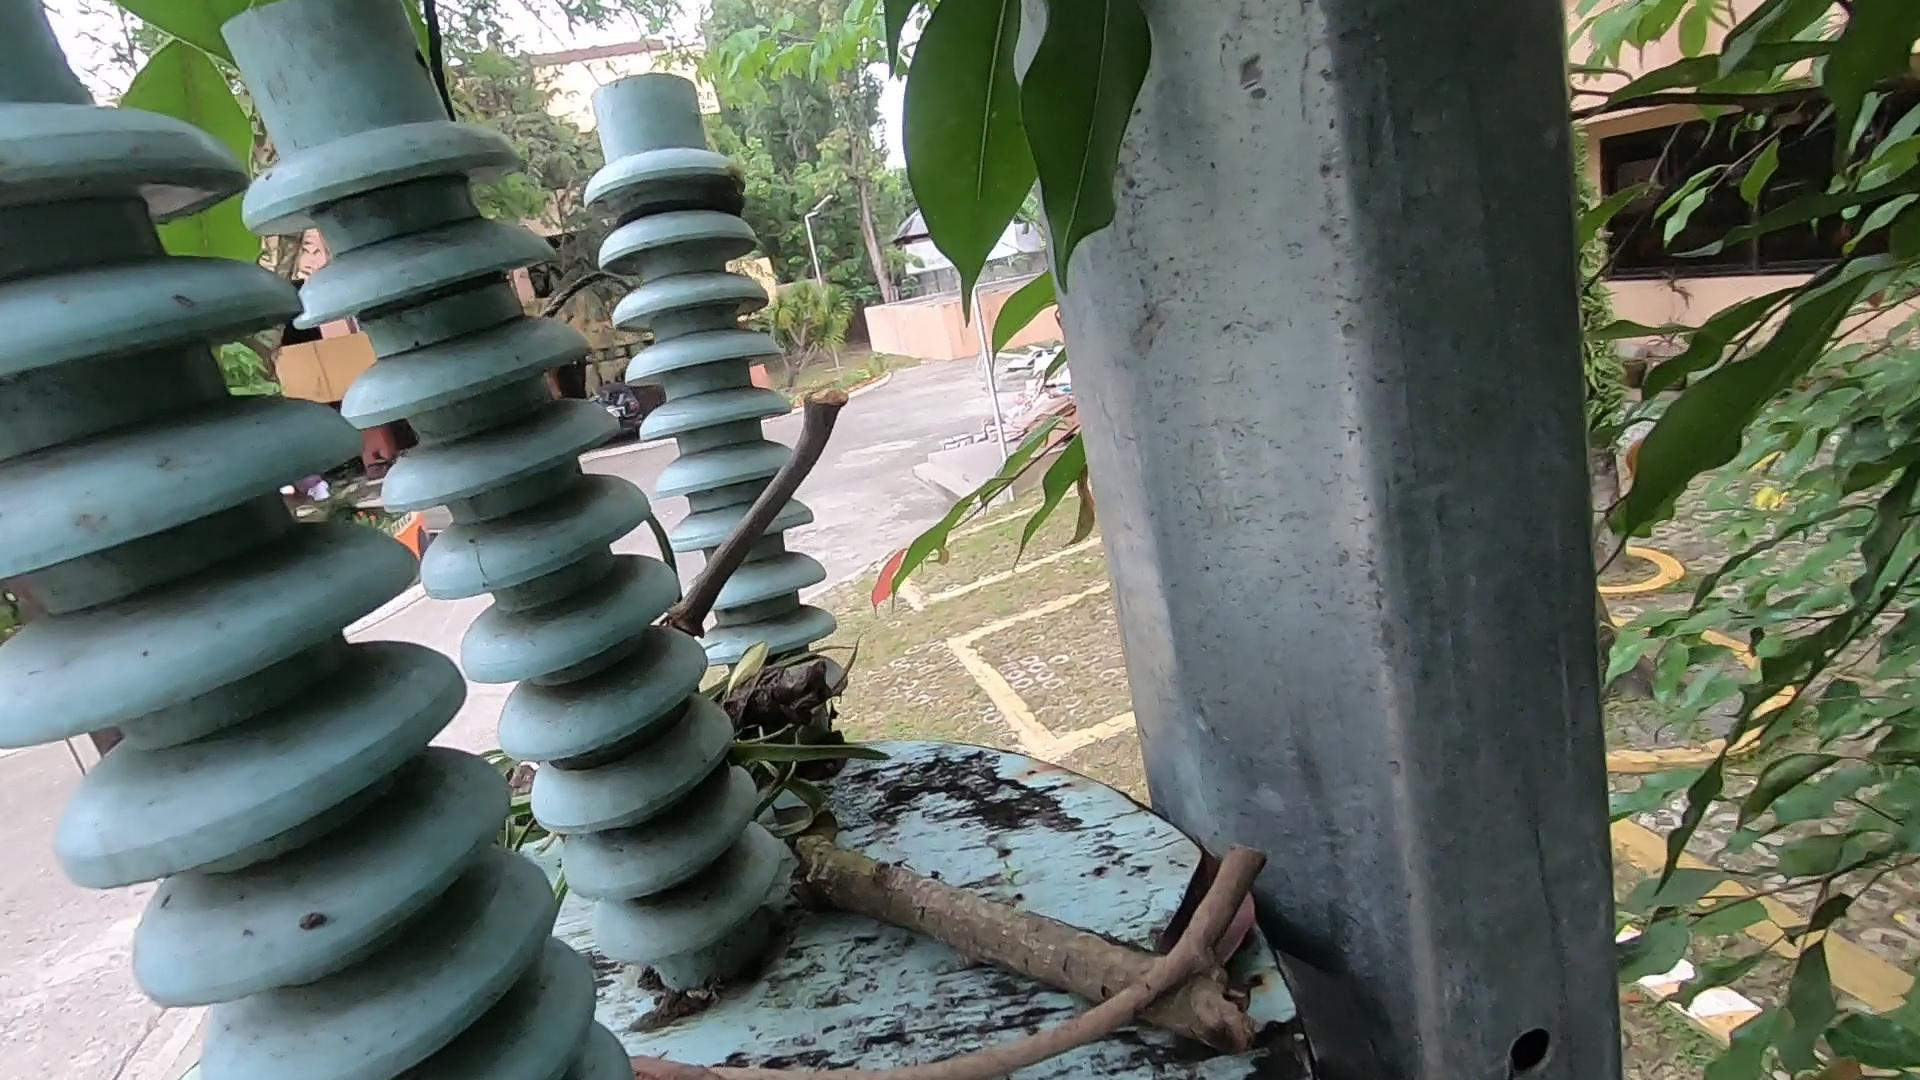branch with leaves: (728, 634, 1193, 1042)
mahogany fruit: (611, 1040, 705, 1080)
tree branch: (662, 803, 1352, 1073), (695, 349, 851, 719)
